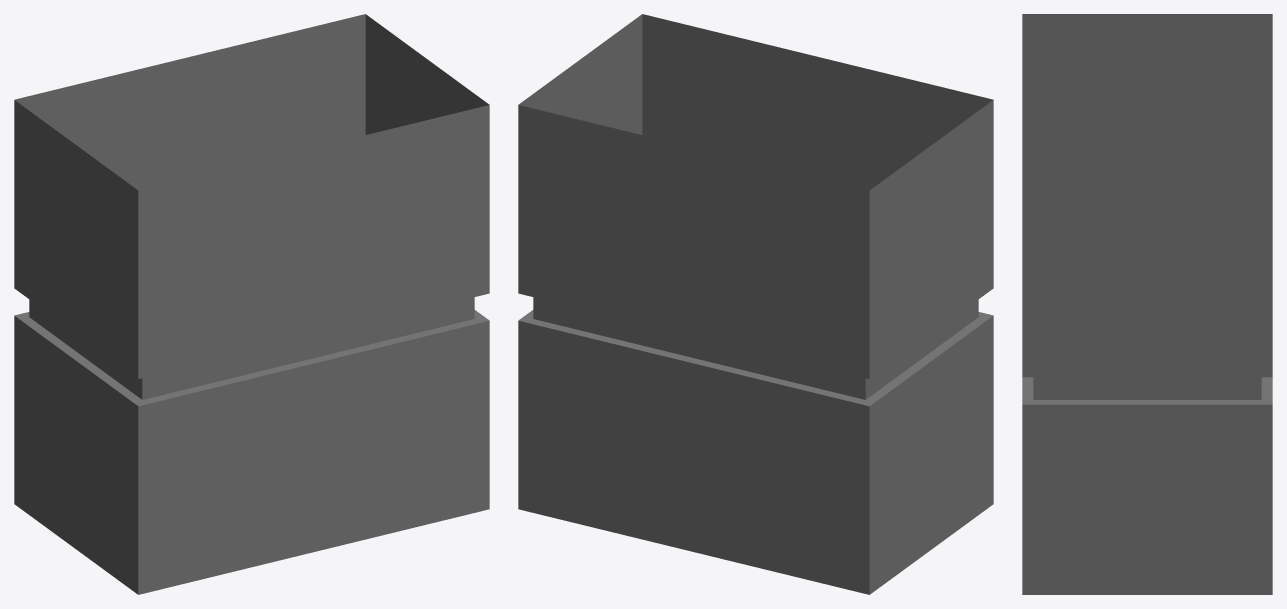
File: SM_pillar_03_E.glb
3 views of the same model, side by side, from view 1: azimuth 30°, elevation 25°; view 2: azimuth 150°, elevation 25°; view 3: azimuth 270°, elevation 25° (orthographic).
Parts seen in each view (by area): view 1: SM_pillar_03_E; view 2: SM_pillar_03_E; view 3: SM_pillar_03_E.
Boxes of the visible parts, x1,y1,x2,y2 form: SM_pillar_03_E: (14,14,489,594); SM_pillar_03_E: (518,14,993,594); SM_pillar_03_E: (1022,14,1272,594).
Size of the model in its own units: 0.9029 by 0.993 by 0.5527.
Materials: 1 (1 with a texture image).
